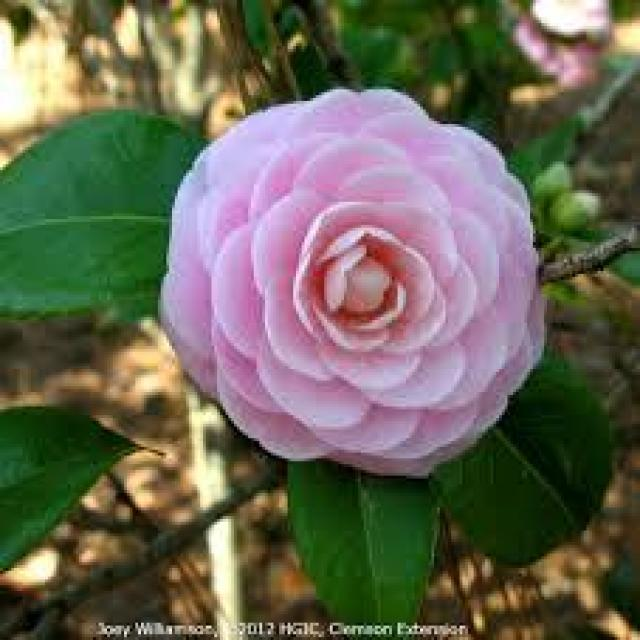organic waste: (130, 82, 575, 472)
